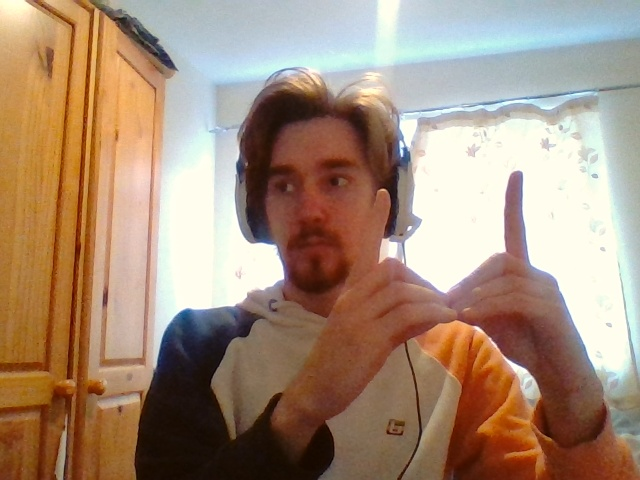meet: (358, 168, 536, 309)
